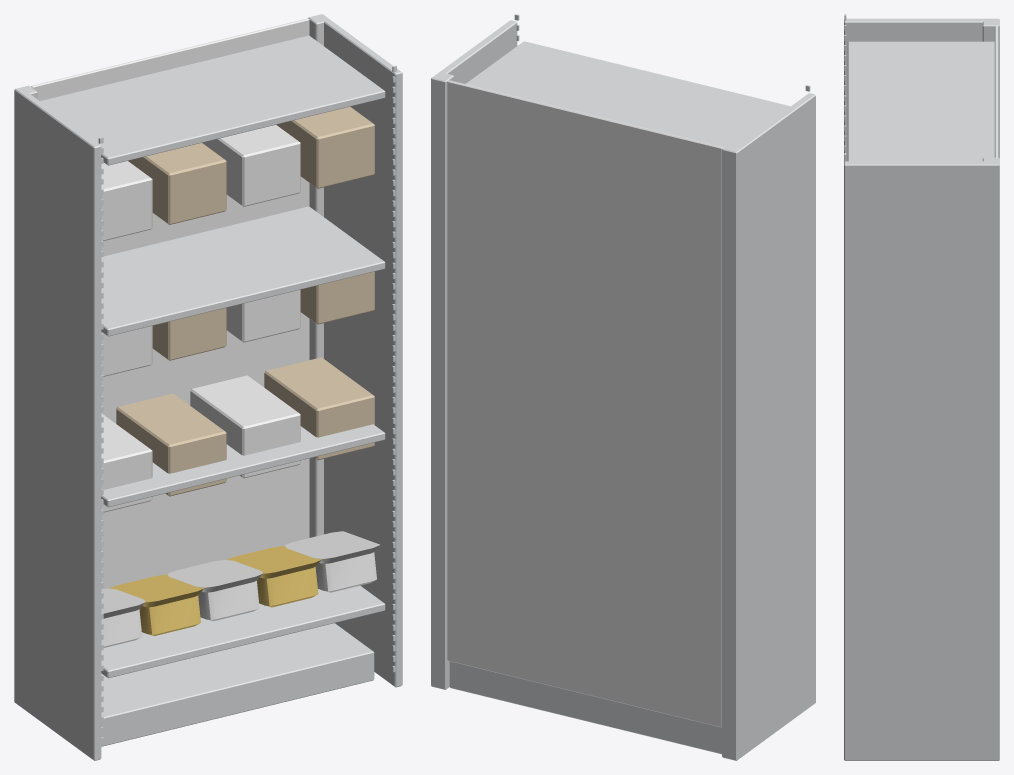
The model's file is hyllis-shelf-bay.glb.
The picture shows the model from 3 angles, left to right: view 1: azimuth 30°, elevation 25°; view 2: azimuth 150°, elevation 25°; view 3: azimuth 270°, elevation 25°; orthographic projection. The views are drawn at different scales.
Visible parts, largest first — view 1: stock-shelving; view 2: stock-shelving; view 3: stock-shelving.
Boxes of the visible parts, x1,y1,x2,y2 form: stock-shelving: (14, 14, 402, 760); stock-shelving: (431, 14, 815, 760); stock-shelving: (844, 14, 999, 760).
Size of the model in its own units: 1 by 1.92 by 0.45.
